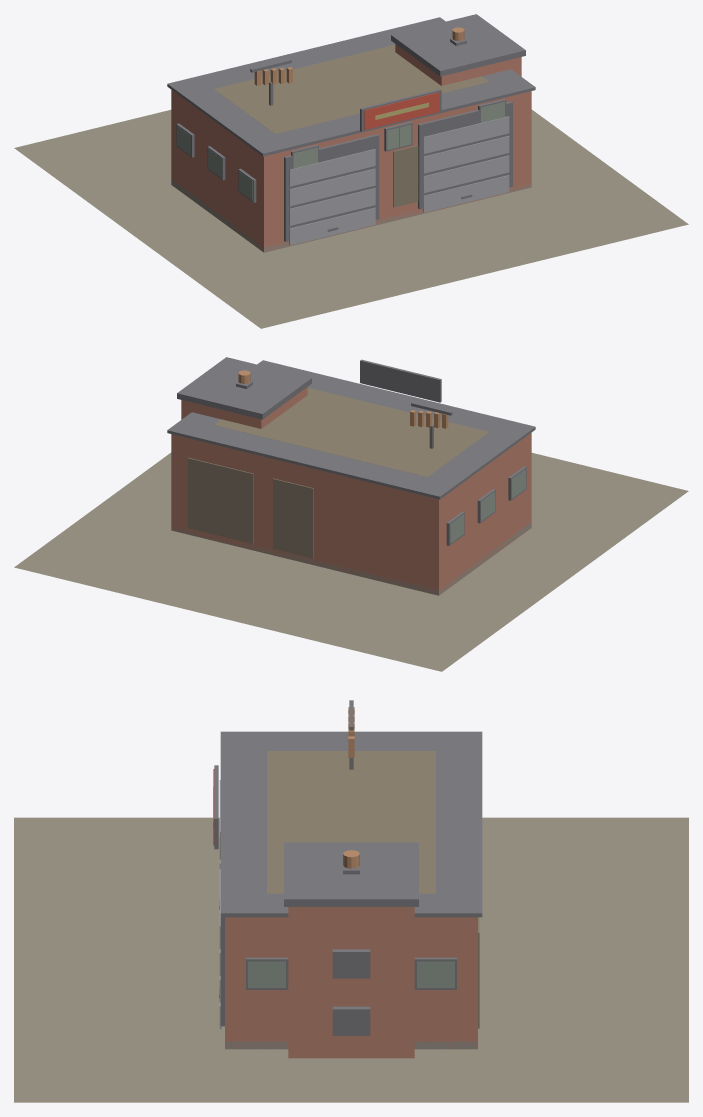
File: fire_station.glb
3 renders of one model, top to bottom at view 1: azimuth 30°, elevation 25°; view 2: azimuth 150°, elevation 25°; view 3: azimuth 270°, elevation 25°, orthographic. The views are drawn at different scales.
Parts seen in each view (by area): view 1: Ground, Fire_Walls, Fire_RoofDirt, Fire_Roof, Tower_Roof, Bay_0_Frame, Bay_1_Frame, Bay_0_Panel_2, Bay_1_Panel_1, Bay_0_Panel_1, Bay_1_Panel_2, Bay_1_Panel_3 (+9 smaller); view 2: Ground, Fire_Walls, Fire_Roof, Fire_RoofDirt, Tower_Roof, Brick_Dirt_3, Brick_Dirt_1, Sign_Back, Fire_Base, Brick_Dirt_0, Brick_Dirt_2, Tower_Base; view 3: Ground, Fire_Roof, Fire_RoofDirt, Tower_Base, Fire_Walls, Tower_Roof, TowerWin_1_E_Frame, TowerWin_0_E_Frame, Fire_Base, SideWindow_1_0_Glass, SideWindow_1_2_Glass.
Part boxes in pixels (box(x1,y1,x2,y2)): Ground: box(14, 109, 688, 328); Fire_Walls: box(171, 90, 531, 252); Fire_RoofDirt: box(214, 44, 488, 133); Fire_Roof: box(167, 17, 535, 156); Tower_Roof: box(391, 14, 525, 76); Bay_0_Frame: box(284, 134, 379, 241); Bay_1_Frame: box(418, 101, 512, 209); Bay_0_Panel_2: box(289, 168, 375, 206); Bay_1_Panel_1: box(423, 155, 509, 193); Bay_0_Panel_1: box(289, 188, 375, 225); Bay_1_Panel_2: box(423, 136, 509, 173); Bay_1_Panel_3: box(423, 116, 509, 153); Ground: box(14, 452, 688, 671); Fire_Walls: box(171, 433, 531, 595); Fire_Roof: box(167, 360, 535, 499); Fire_RoofDirt: box(214, 387, 488, 476); Tower_Roof: box(177, 357, 311, 419); Brick_Dirt_3: box(273, 478, 313, 558); Brick_Dirt_1: box(213, 465, 253, 543); Sign_Back: box(360, 359, 441, 402); Fire_Base: box(171, 522, 531, 595); Brick_Dirt_0: box(187, 457, 227, 531); Brick_Dirt_2: box(203, 461, 243, 534); Tower_Base: box(181, 387, 307, 428); Ground: box(14, 817, 688, 1102); Fire_Roof: box(220, 731, 482, 917); Fire_RoofDirt: box(267, 751, 435, 893); Tower_Base: box(288, 907, 414, 1058); Fire_Walls: box(225, 917, 477, 1049); Tower_Roof: box(284, 842, 418, 906); TowerWin_1_E_Frame: box(332, 949, 370, 978); TowerWin_0_E_Frame: box(332, 1006, 370, 1035); Fire_Base: box(225, 1041, 477, 1049); SideWindow_1_0_Glass: box(248, 961, 285, 987); SideWindow_1_2_Glass: box(417, 961, 454, 987).
Size of the model in its own units: 16 by 5.05 by 16.
